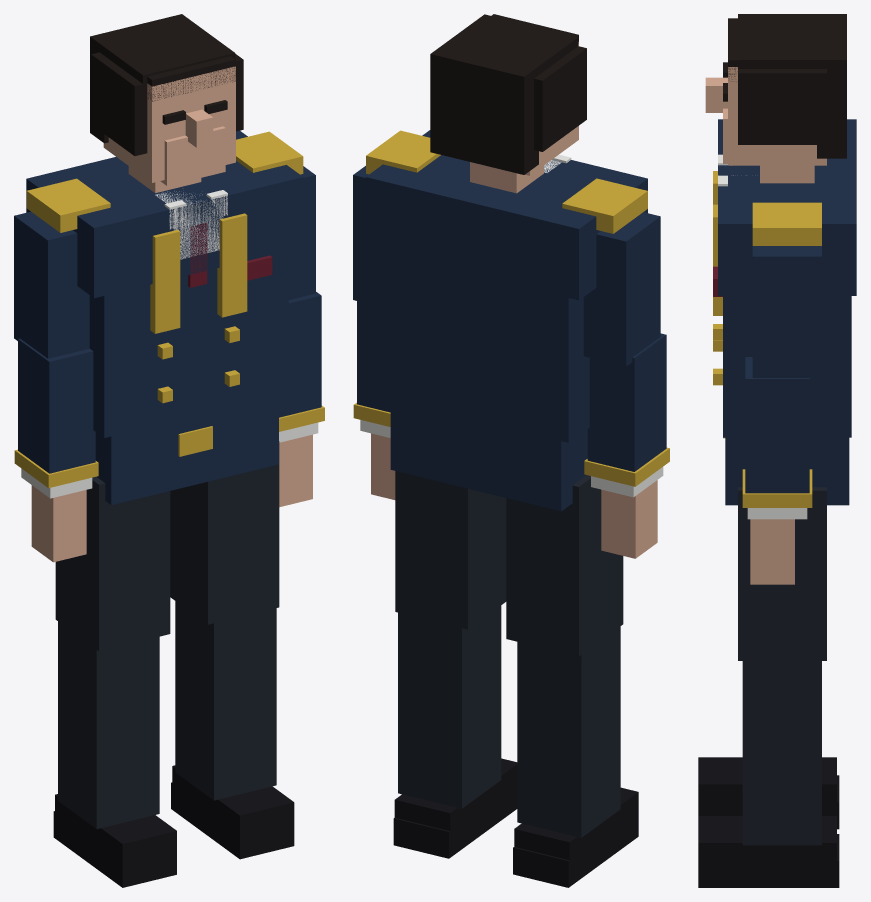
File: NPC_Concierge_Pierre.obj
3 views of the same model, side by side, from view 1: azimuth 30°, elevation 25°; view 2: azimuth 150°, elevation 25°; view 3: azimuth 270°, elevation 25° (orthographic). The views are drawn at different scales.
Bounding box in the file's own units: 0.66 × 1.8 × 0.32.
